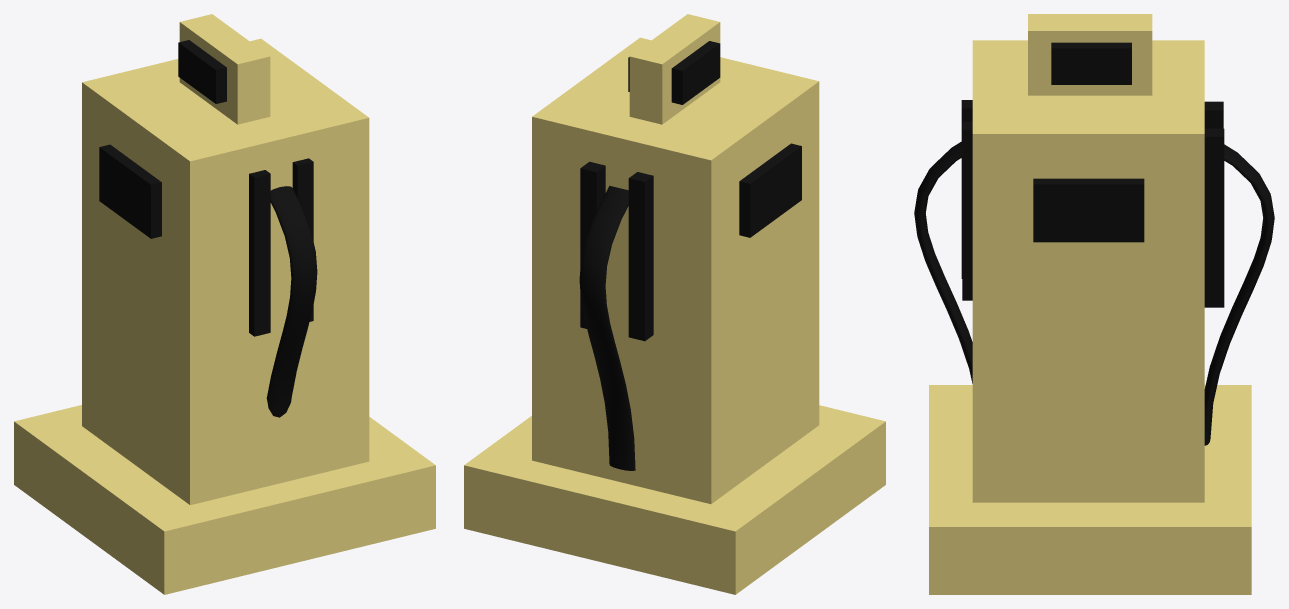
The model's file is GasPump.fbx.
3 renders of one model, left to right at view 1: azimuth 30°, elevation 25°; view 2: azimuth 150°, elevation 25°; view 3: azimuth 270°, elevation 25°, orthographic. The views are drawn at different scales.
Parts seen in each view (by area): view 1: Cube.001, Cube, BézierCurve, Cube.003, Cube.002, Cube.007, Cube.004, Cube.008; view 2: Cube.001, Cube, BézierCurve.001, Cube.003, Cube.006, Cube.002, Cube.004, Cube.005; view 3: Cube.001, Cube, Cube.002, Cube.003, BézierCurve.001, Cube.005, Cube.004, BézierCurve, Cube.008, Cube.006, Cube.007.
Boxes of the visible parts, box(x1,y1,x2,y2) form: Cube.001: box(82, 38, 369, 505); Cube: box(14, 405, 435, 594); BézierCurve: box(266, 186, 317, 417); Cube.003: box(179, 14, 270, 124); Cube.002: box(99, 144, 161, 238); Cube.007: box(249, 170, 270, 336); Cube.004: box(178, 40, 226, 103); Cube.008: box(292, 158, 313, 321); Cube.001: box(532, 37, 819, 503); Cube: box(464, 405, 885, 594); BézierCurve.001: box(579, 185, 635, 470); Cube.003: box(629, 14, 720, 124); Cube.006: box(628, 172, 653, 341); Cube.002: box(739, 143, 801, 237); Cube.004: box(628, 41, 720, 104); Cube.005: box(580, 161, 605, 328); Cube.001: box(972, 40, 1204, 502); Cube: box(929, 385, 1251, 594); Cube.002: box(1033, 178, 1144, 242); Cube.003: box(1028, 14, 1152, 95); BézierCurve.001: box(1204, 144, 1274, 445); Cube.005: box(1204, 128, 1224, 307); Cube.004: box(1051, 42, 1131, 84); BézierCurve: box(914, 141, 972, 383); Cube.008: box(962, 121, 972, 300); Cube.006: box(1204, 101, 1223, 128); Cube.007: box(961, 100, 972, 278).
Bounding box in the file's own units: 200 × 329 × 215.
